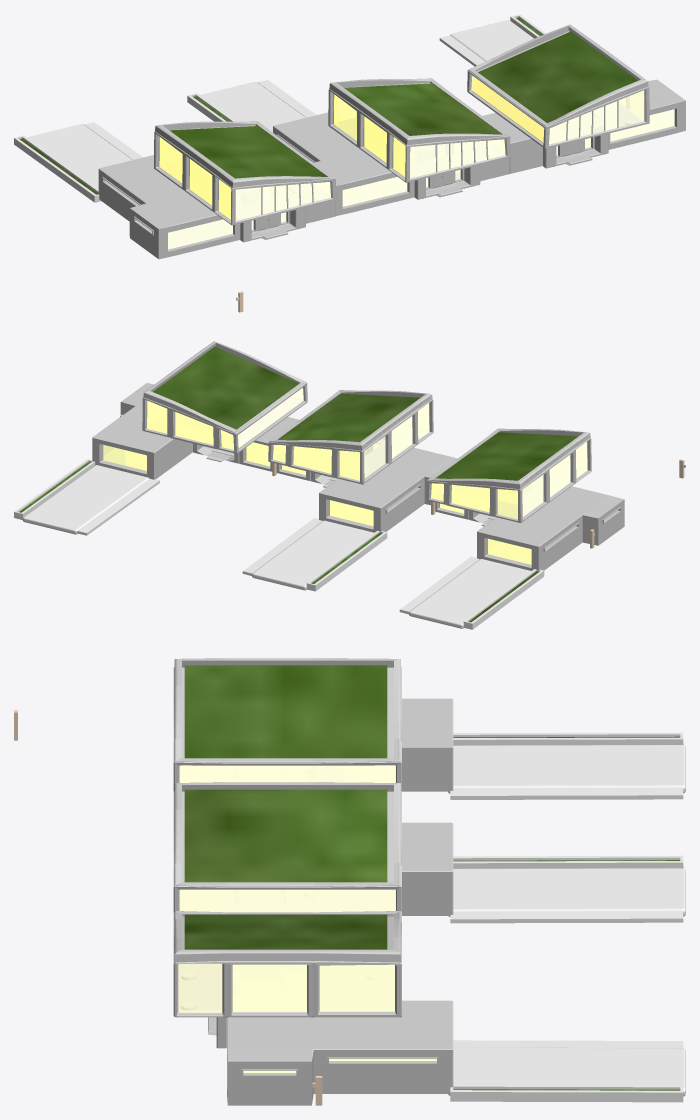
File: modern-house-1.glb
The picture shows the model from 3 angles, top to bottom: view 1: azimuth 30°, elevation 25°; view 2: azimuth 150°, elevation 25°; view 3: azimuth 270°, elevation 25°; orthographic projection. The views are drawn at different scales.
Parts seen in each view (by area): view 1: Cube, Cube.016, Cube.024, Plane.003, Cube.046, Plane, Plane.002, Cube.045, Cube.042; view 2: Cube, Cube.016, Cube.024, Plane.003, Cube.042, Cube.045, Cube.046, Plane, Plane.002; view 3: Cube.024, Plane, Plane.002, Cube.016, Cube.046, Cube.045, Cube, Cube.042, Plane.003.
Part boxes in pixels (x1,y1,x2,y2): Cube: [98, 121, 336, 259]; Cube.016: [273, 78, 510, 216]; Cube.024: [467, 24, 685, 173]; Plane.003: [478, 31, 637, 122]; Cube.046: [14, 122, 142, 202]; Plane: [160, 126, 327, 179]; Plane.002: [336, 83, 501, 138]; Cube.045: [187, 80, 316, 132]; Cube.042: [439, 14, 545, 66]; Cube: [426, 428, 624, 570]; Cube.016: [268, 390, 457, 532]; Cube.024: [92, 341, 307, 479]; Plane.003: [153, 346, 299, 429]; Cube.042: [14, 459, 159, 535]; Cube.045: [242, 518, 387, 591]; Cube.046: [399, 556, 544, 629]; Plane: [436, 432, 583, 481]; Plane.002: [278, 393, 424, 442]; Cube.024: [173, 911, 453, 1105]; Plane: [184, 665, 387, 758]; Plane.002: [184, 789, 387, 882]; Cube.016: [173, 782, 453, 915]; Cube.046: [448, 732, 685, 799]; Cube.045: [448, 855, 685, 923]; Cube: [173, 658, 453, 791]; Cube.042: [448, 1040, 685, 1102]; Plane.003: [184, 914, 387, 949].
Size of the model in its own units: 20.74 by 3.06 by 15.64.
Materials: 6 (2 with a texture image).
